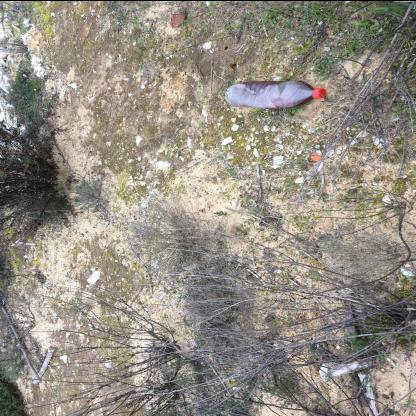plastik: (224, 78, 326, 108)
